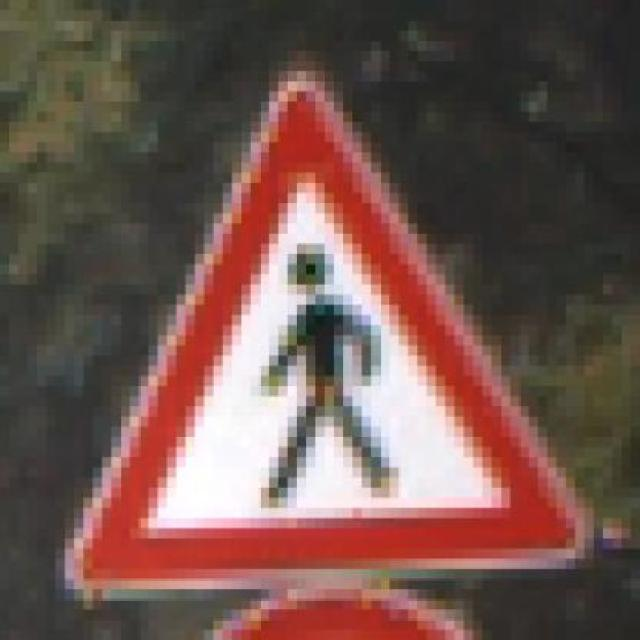Pedestrian Crossing: (46, 40, 594, 589)
